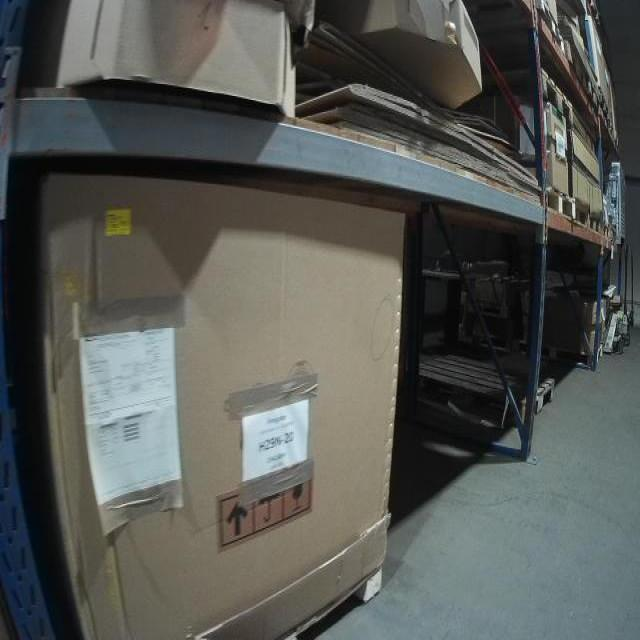pallet: (415, 349, 557, 416), (269, 564, 385, 635), (484, 65, 574, 120), (568, 25, 605, 109), (519, 0, 569, 48), (540, 180, 577, 219), (576, 203, 590, 229), (590, 213, 602, 238), (604, 222, 610, 244)
pallet_truck: (600, 243, 631, 364), (624, 250, 637, 333)
stillage: (604, 156, 630, 238)
